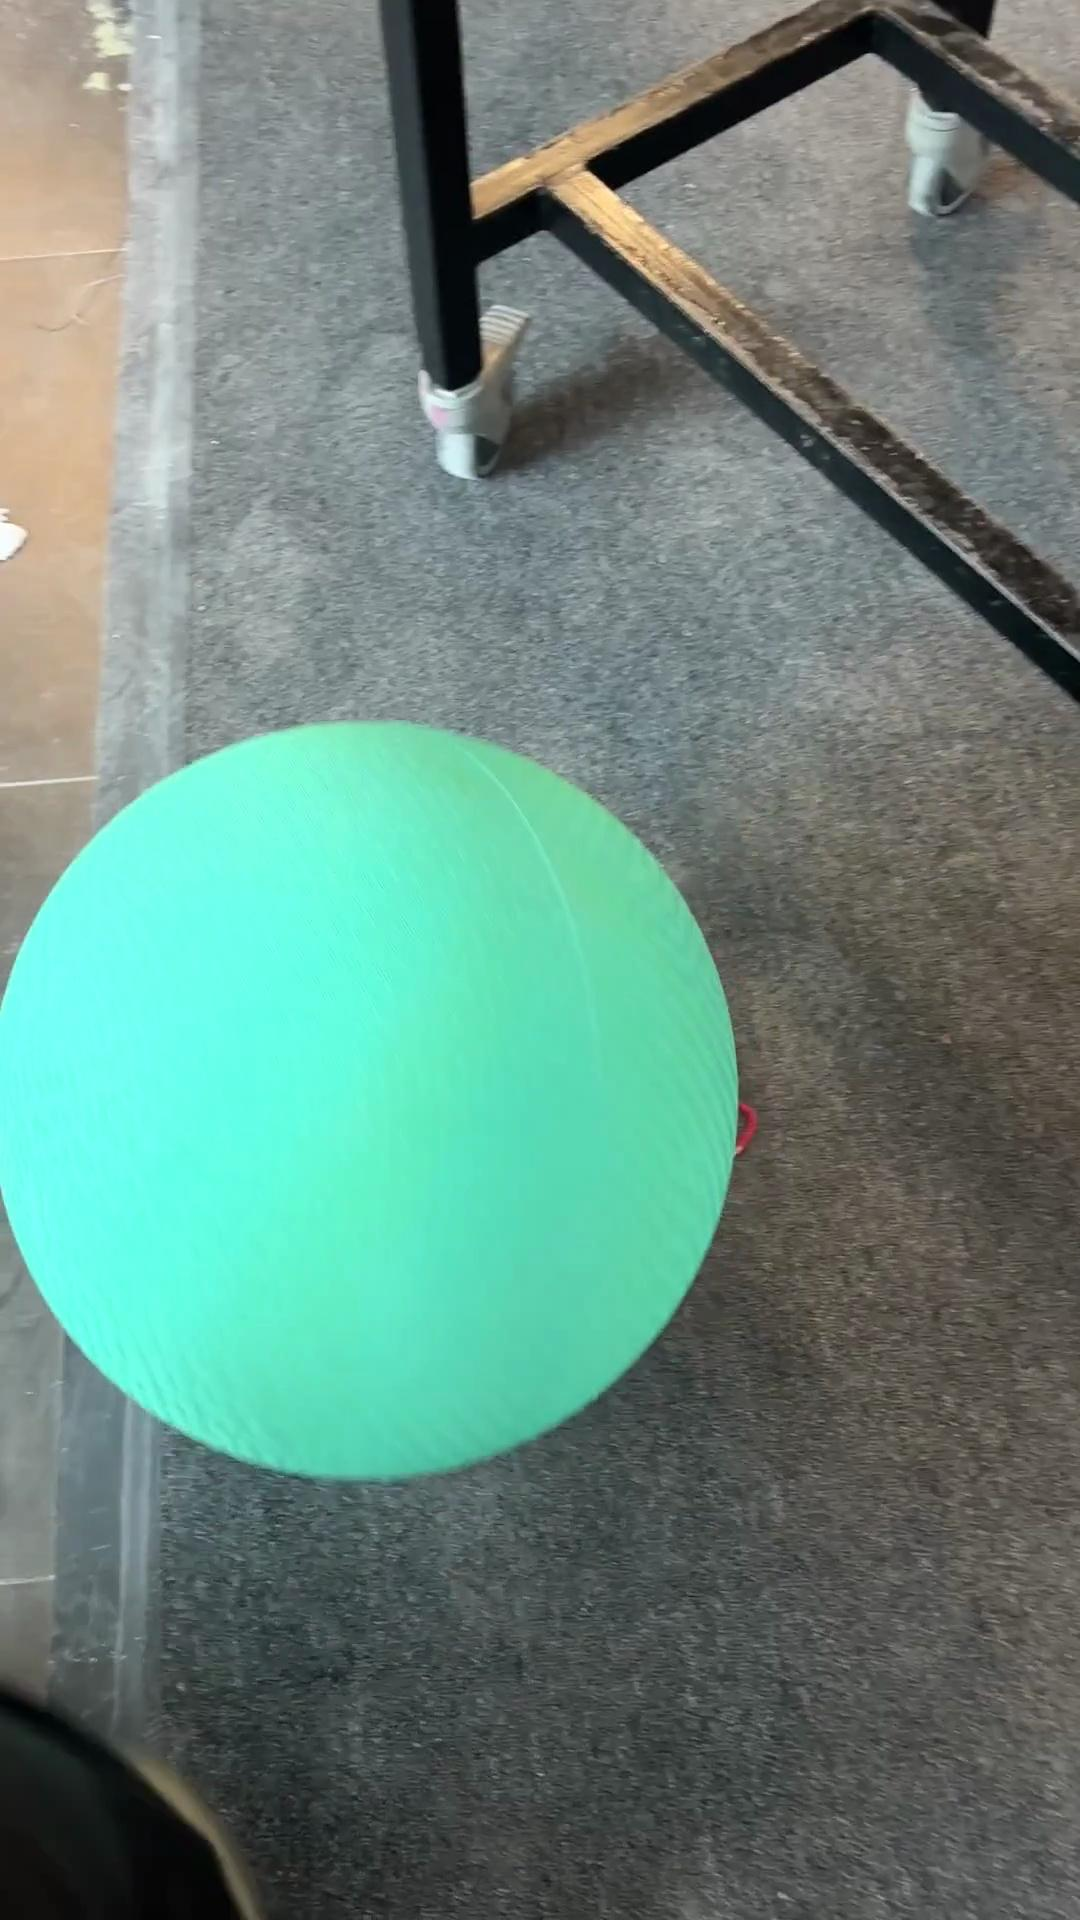ALGAE: (1, 715, 742, 1484)
